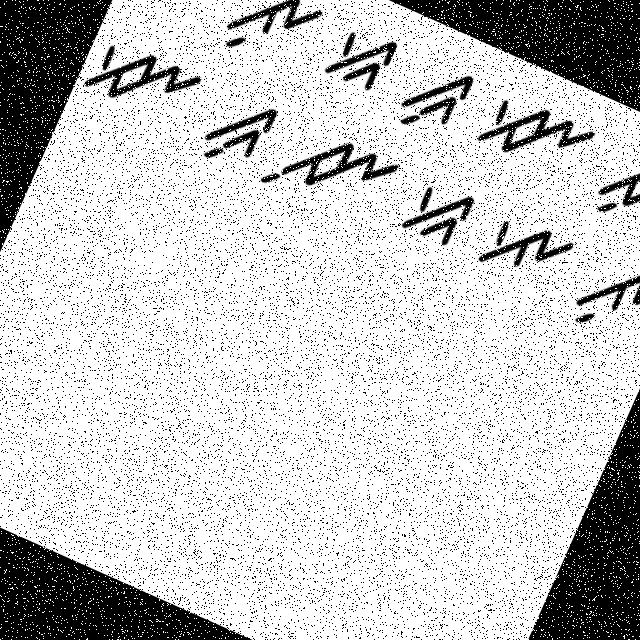e: (468, 198, 579, 302), (119, 0, 235, 37)
ngge: (384, 162, 486, 263), (317, 15, 404, 106)
nggu: (381, 46, 487, 156), (186, 78, 286, 184)
nje: (468, 76, 604, 195), (76, 21, 211, 140)
nju: (258, 114, 404, 236), (586, 128, 639, 257)
u: (210, 0, 335, 85), (561, 241, 639, 358)
